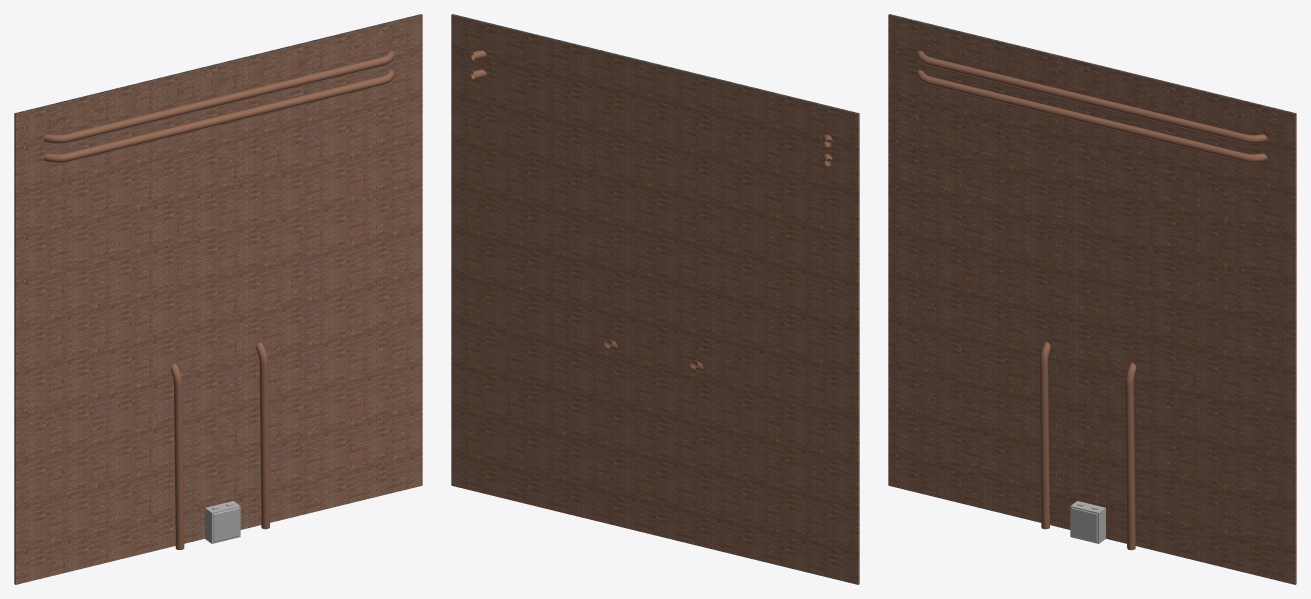
The model's file is Tutorial_Model_Structure_BS2Wall_1.fbx.
3 renders of one model, left to right at view 1: azimuth 30°, elevation 25°; view 2: azimuth 150°, elevation 25°; view 3: azimuth 330°, elevation 25°, orthographic.
Visible parts, largest first — view 1: Wall_4, Wall_4_Pipe_1, Wall_4_Pipe_2, Wall_4_Pipe_4, Wall_4_Pipe_3, Wall_4_Electrical_Box; view 2: Wall_4; view 3: Wall_4, Wall_4_Pipe_1, Wall_4_Pipe_2, Wall_4_Pipe_3, Wall_4_Pipe_4, Wall_4_Electrical_Box.
Boxes of the visible parts, x1=… form: Wall_4: x1=14, y1=14, x2=422, y2=584; Wall_4_Pipe_1: x1=43, y1=50, x2=394, y2=143; Wall_4_Pipe_2: x1=43, y1=70, x2=394, y2=162; Wall_4_Pipe_4: x1=170, y1=364, x2=184, y2=549; Wall_4_Pipe_3: x1=256, y1=343, x2=269, y2=529; Wall_4_Electrical_Box: x1=205, y1=501, x2=240, y2=543; Wall_4: x1=451, y1=14, x2=859, y2=584; Wall_4: x1=888, y1=14, x2=1296, y2=584; Wall_4_Pipe_1: x1=916, y1=50, x2=1267, y2=143; Wall_4_Pipe_2: x1=916, y1=70, x2=1267, y2=162; Wall_4_Pipe_3: x1=1125, y1=363, x2=1136, y2=550; Wall_4_Pipe_4: x1=1039, y1=342, x2=1050, y2=529; Wall_4_Electrical_Box: x1=1070, y1=501, x2=1105, y2=543.
Size of the model in its own units: 748 by 827 by 49.34.
Materials: 3 (3 with a texture image).
